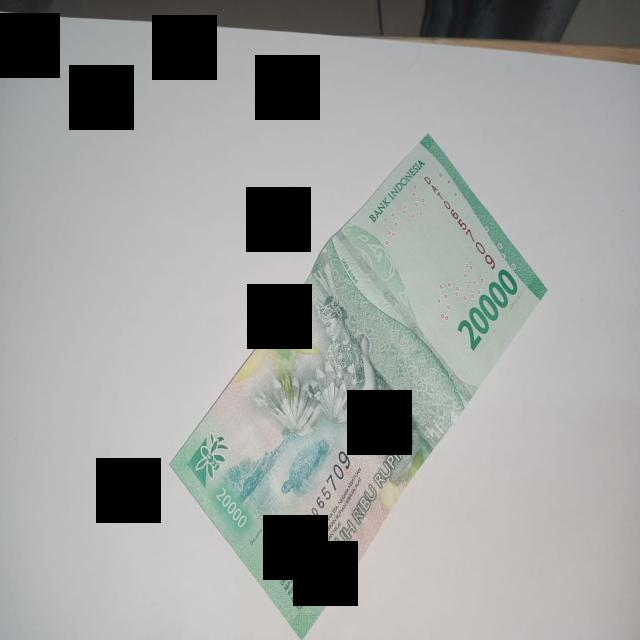dua puluh ribu rupiah: (171, 135, 546, 637)
